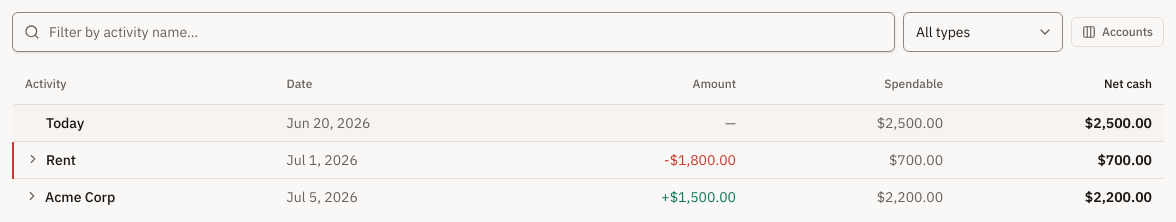
it: ProjectedActivityTable › filters by activity name, keeping TODAY pinned and true running balances (yequ)
The image size is (1176, 222).
Step 1. Type "acme" into the search field named "filter projected activity" → {"x": 454, "y": 32}, box [12,12,895,52]
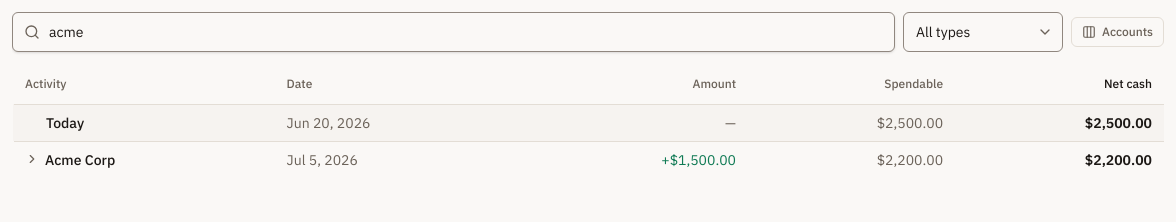
Check: the text "Today" is shown, box [46,114,84,132]
Check: the button "Rent" is gone
